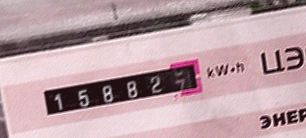1: (50, 88, 65, 109)
2: (148, 71, 163, 92)
5: (75, 85, 90, 106)
7: (174, 74, 187, 90)
8: (100, 80, 115, 102), (124, 76, 139, 98)
screen: (33, 50, 213, 122)
